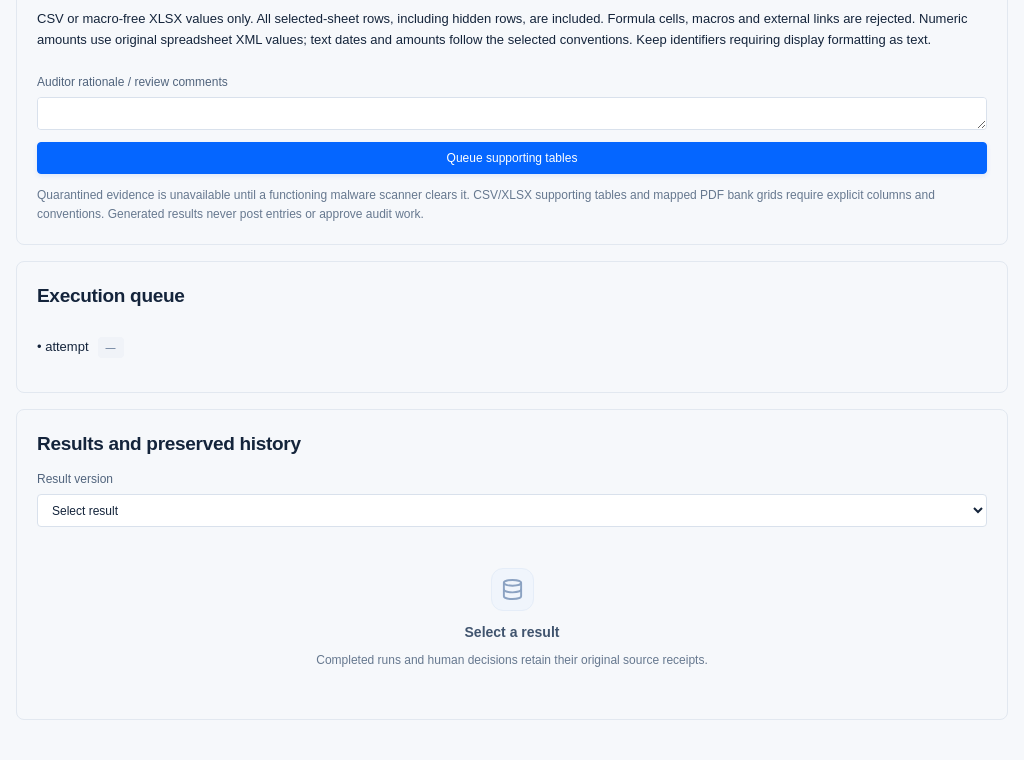
Test case: shows supporting-table amounts before expanded PDF provenance
(page scrolled)
Select "source-table • Prepared PDF table • v1 • CURRENT" in the dropdown labelled "Result version": x=512, y=511 [37,494,987,527]
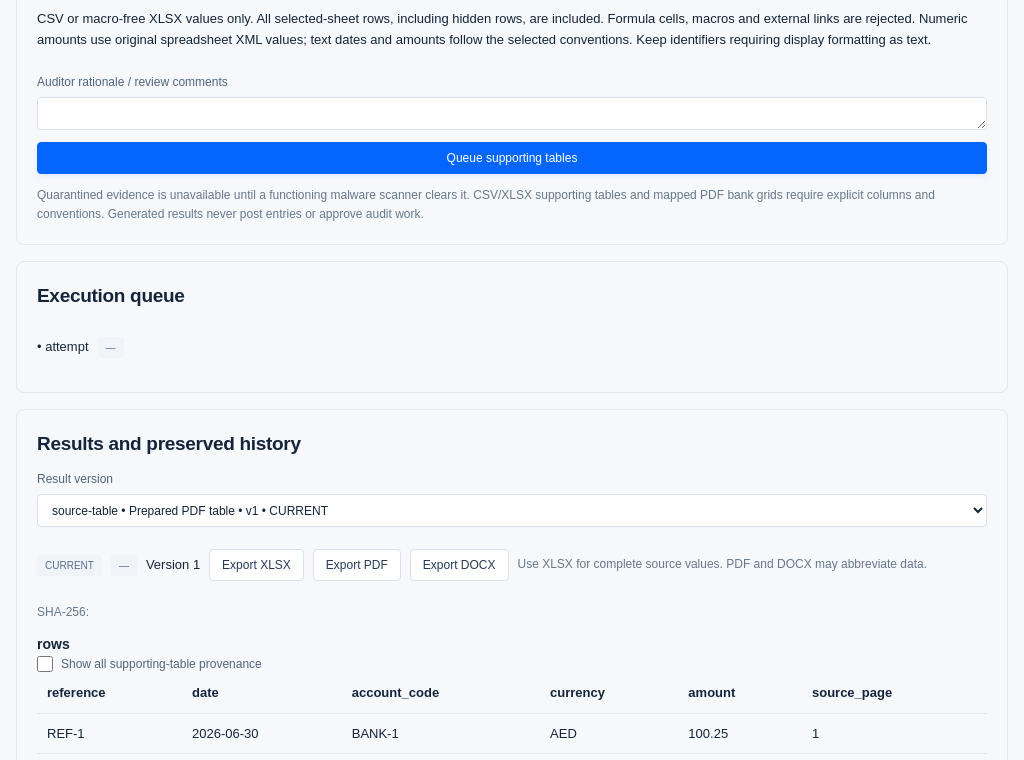
Expected: the column heading "source_pdf_cells" is not shown
Expected: the column heading "amount" is shown, [678,673,802,713]
Expected: the cell "100.25" is shown, [678,713,802,754]
Click the checkbox labelled "Show all supporting-table provenance": x=45, y=664 [37,656,53,672]
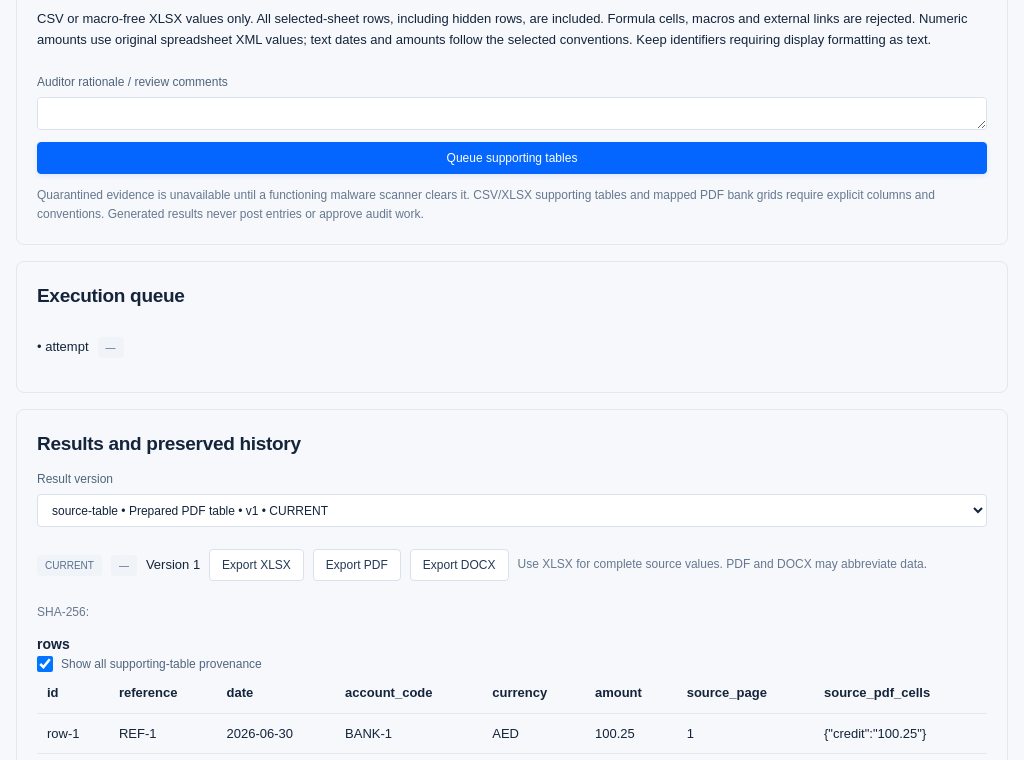
Expected: the column heading "source_pdf_cells" is shown, [814,673,987,713]
